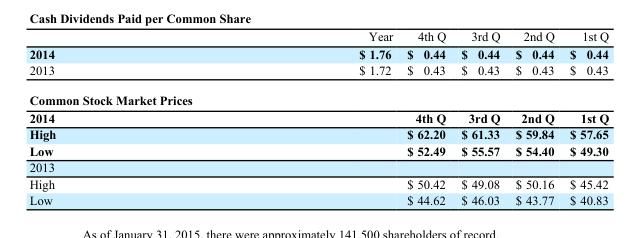table: (28, 28, 608, 207)
table column: (206, 28, 399, 207), (28, 28, 206, 207), (452, 28, 507, 207), (507, 28, 561, 207), (399, 28, 452, 207), (561, 28, 608, 207)
table column header: (28, 28, 608, 44)
table projected row header: (28, 85, 608, 108), (28, 158, 608, 175)
table row: (28, 61, 608, 85), (28, 85, 608, 108), (28, 44, 608, 61), (28, 108, 608, 125), (28, 125, 608, 142), (28, 158, 608, 175), (28, 28, 608, 44), (28, 142, 608, 158), (28, 175, 608, 191), (28, 191, 608, 207)
